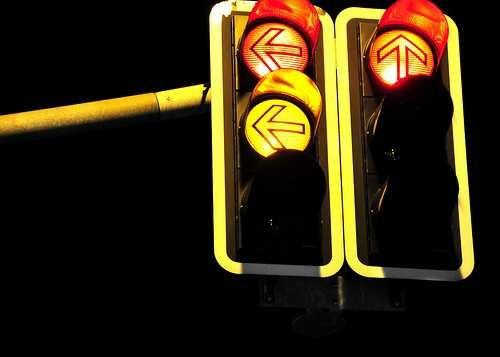red: (356, 18, 461, 270), (364, 16, 451, 96), (235, 17, 322, 90)
